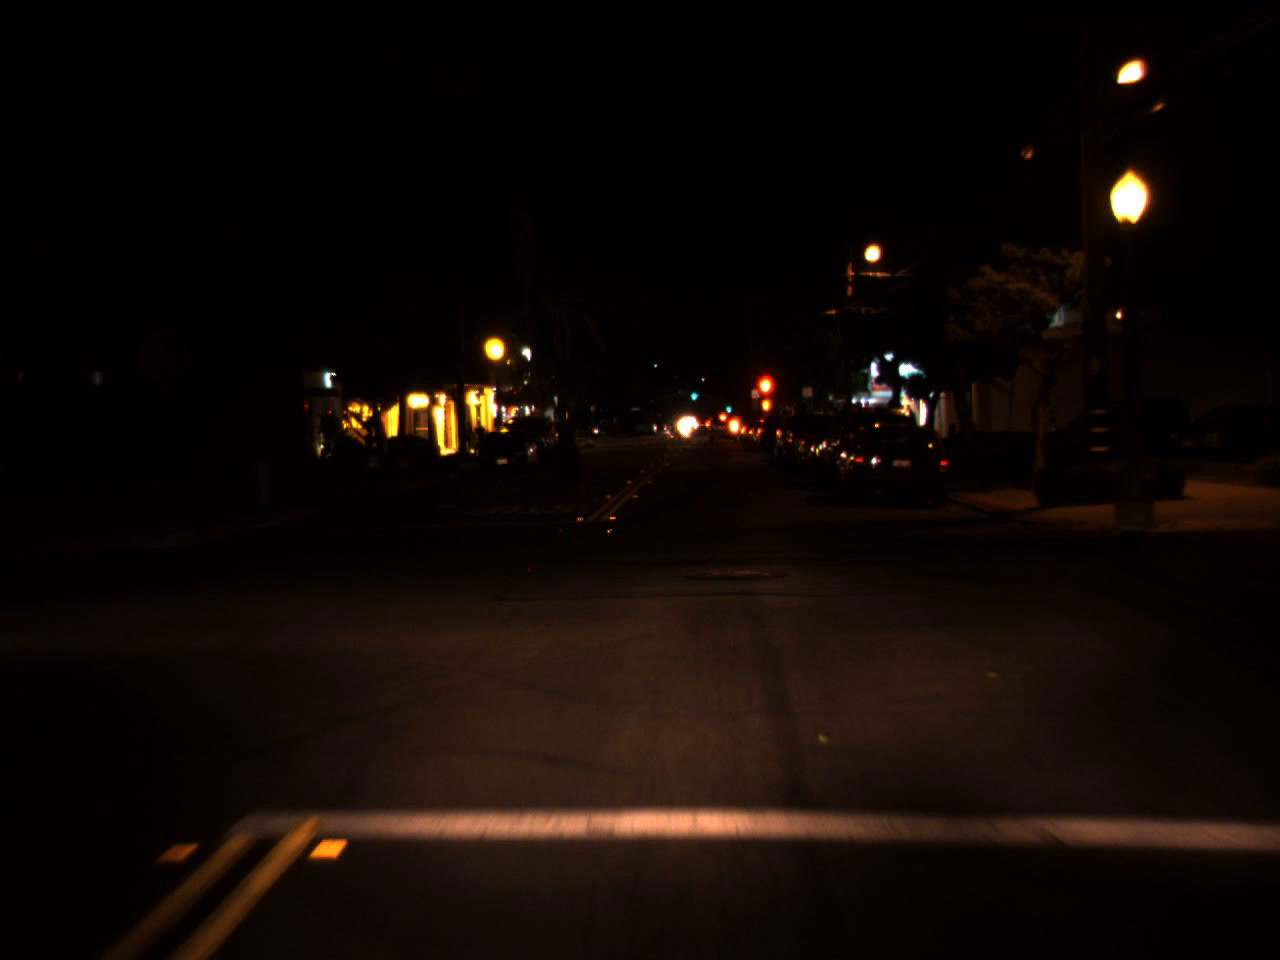go: (689, 386, 698, 401), (723, 397, 732, 412)
stop: (751, 371, 778, 425)
